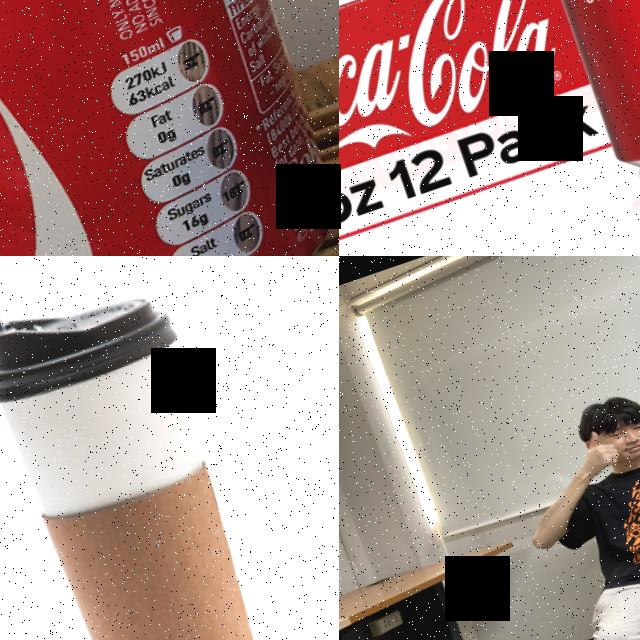can: (0, 0, 339, 256), (500, 0, 640, 194)
cup: (0, 268, 316, 640)
